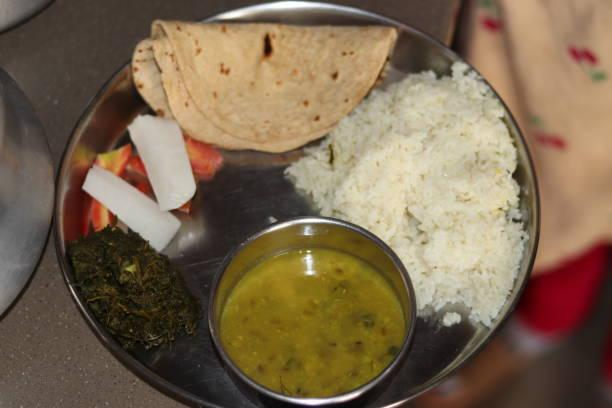daal: (231, 258, 392, 381)
rice: (362, 89, 520, 279)
roti phulka: (162, 29, 374, 118)
salad: (93, 120, 210, 233)
